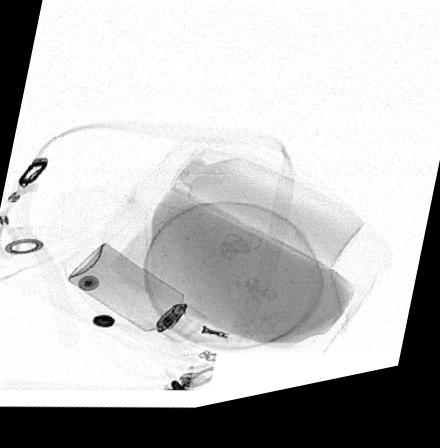Sprayer: (67, 245, 206, 349)
